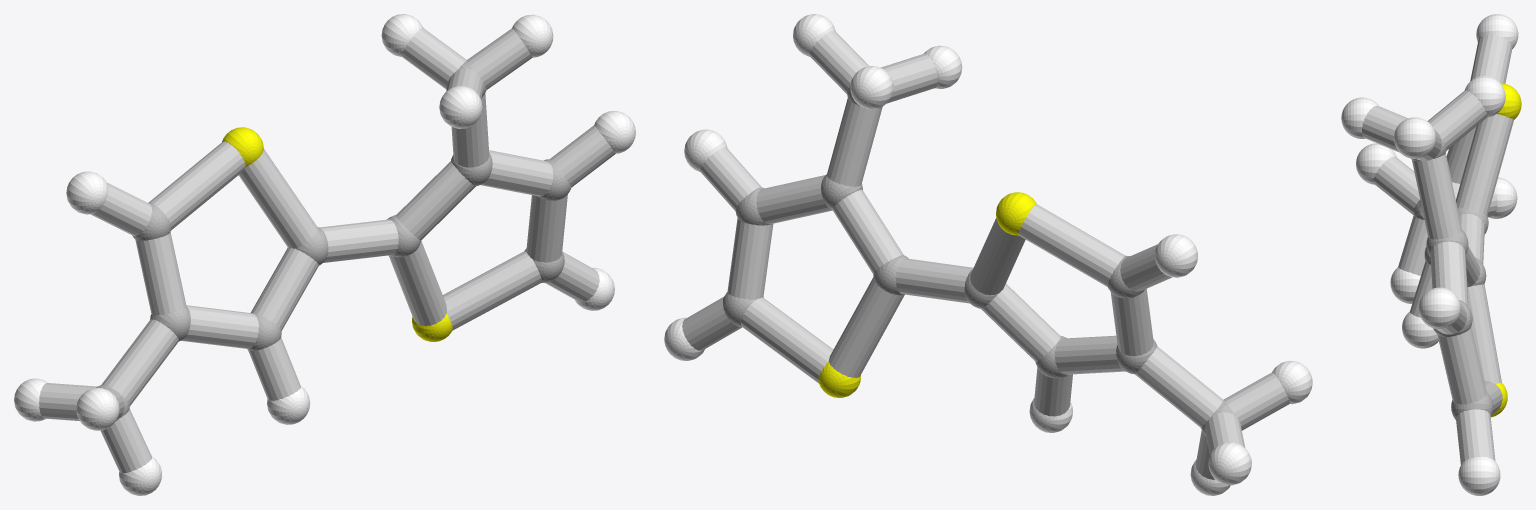
Rendered from color.glb.
3 views of the same model, side by side, from view 1: azimuth 30°, elevation 25°; view 2: azimuth 150°, elevation 25°; view 3: azimuth 270°, elevation 25° (orthographic). The views are drawn at different scales.
Parts seen in each view (by area): view 1: grp7965, grp3621, grp1, grp7241; view 2: grp7965, grp3621, grp1, grp7241; view 3: grp7965, grp3621, grp1, grp7241.
Boxes of the visible parts, <box> form: grp7965: <box>39,28,615,472</box>; grp3621: <box>14,14,635,495</box>; grp1: <box>96,61,571,417</box>; grp7241: <box>222,127,452,341</box>; grp7965: <box>682,30,1289,479</box>; grp3621: <box>664,14,1312,495</box>; grp1: <box>723,86,1234,436</box>; grp7241: <box>818,192,1036,397</box>; grp7965: <box>1361,35,1513,464</box>; grp3621: <box>1341,14,1518,495</box>; grp1: <box>1411,140,1493,419</box>; grp7241: <box>1490,83,1521,417</box>.
Bounding box in the file's own units: 9.4 × 5.81 × 2.57.
